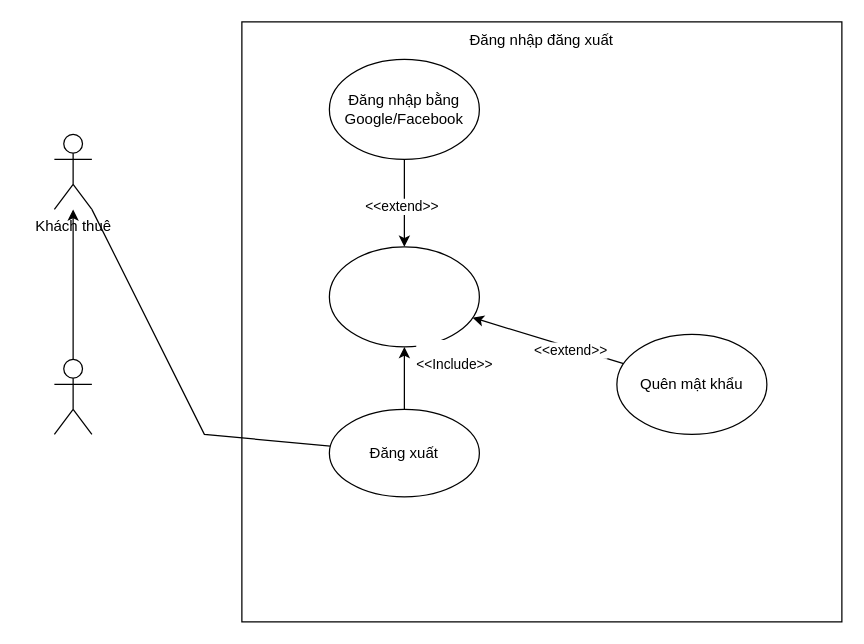
The diagram is 864 pixels wide and 644 high, and some of its shapes have lost their labels. Here are the shapes that lost their labels. From the top down, the centre of each, then its label:
the point at 403,296: Đăng nhập tài khoản
the point at 72,396: Chủ trọ (admin)
